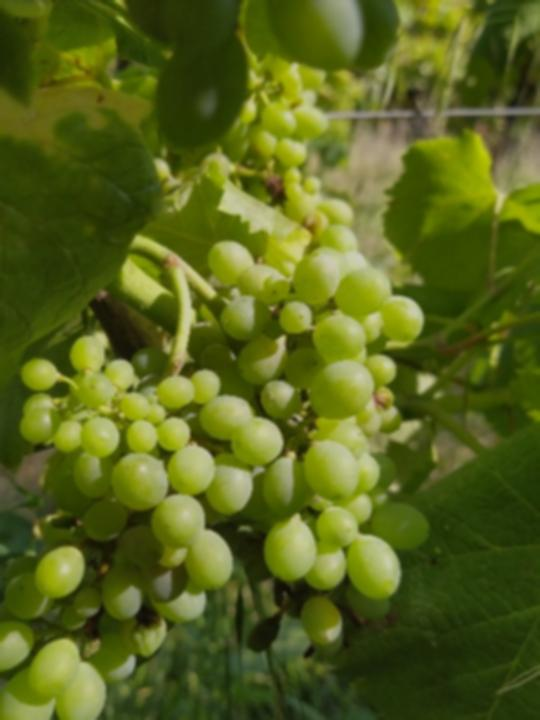grape: (0, 220, 430, 720)
